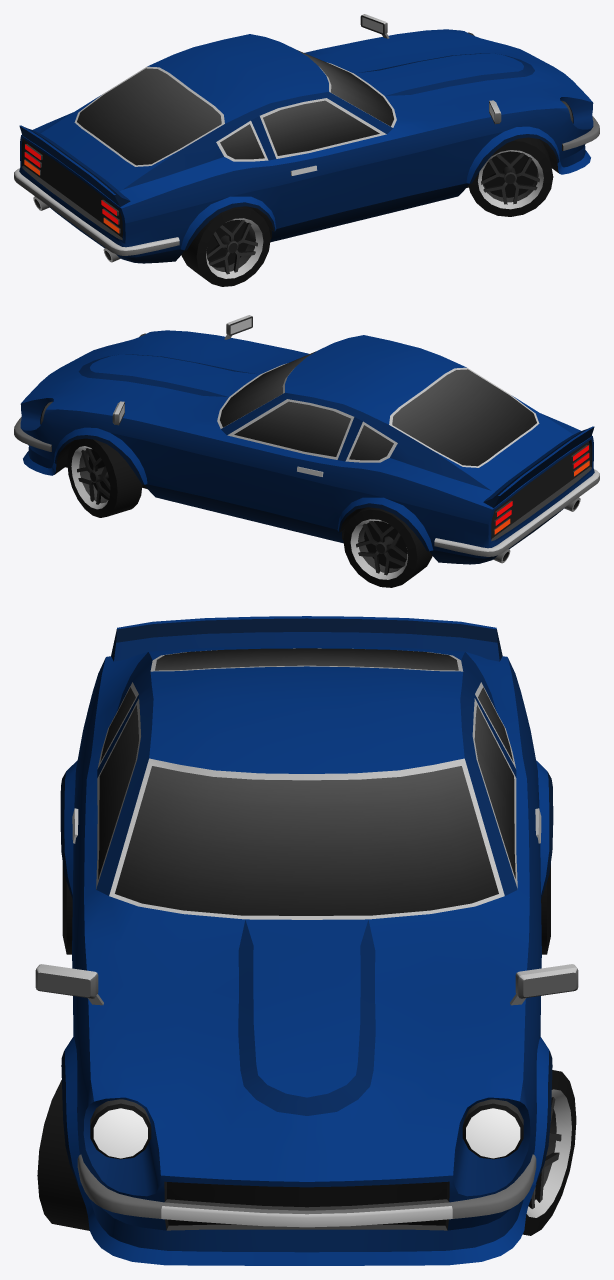
File: Car_189.glb
3 views of the same model, one above another, from view 1: azimuth 30°, elevation 25°; view 2: azimuth 150°, elevation 25°; view 3: azimuth 270°, elevation 25° (orthographic). The views are drawn at different scales.
Parts seen in each view (by area): view 1: Car_189, wheel_3_Car_189_Wheel_2R, wheel_1_Car_189_Wheel_1R; view 2: Car_189, wheel_2_Car_189_Wheel_2L, wheel_0_Car_189_Wheel_1L; view 3: Car_189, wheel_0_Car_189_Wheel_1L, wheel_1_Car_189_Wheel_1R.
Part boxes in pixels (x1,y1,x2,y2): Car_189: [14, 14, 599, 263]; wheel_3_Car_189_Wheel_2R: [181, 206, 270, 286]; wheel_1_Car_189_Wheel_1R: [468, 137, 553, 216]; Car_189: [14, 315, 599, 564]; wheel_2_Car_189_Wheel_2L: [343, 507, 432, 587]; wheel_0_Car_189_Wheel_1L: [67, 438, 142, 517]; Car_189: [35, 616, 578, 1265]; wheel_0_Car_189_Wheel_1L: [522, 1070, 576, 1235]; wheel_1_Car_189_Wheel_1R: [37, 1080, 89, 1230].
Bounding box in the file's own units: 4.41 × 1.32 × 2.06.
Materials: 2 (2 with a texture image).
